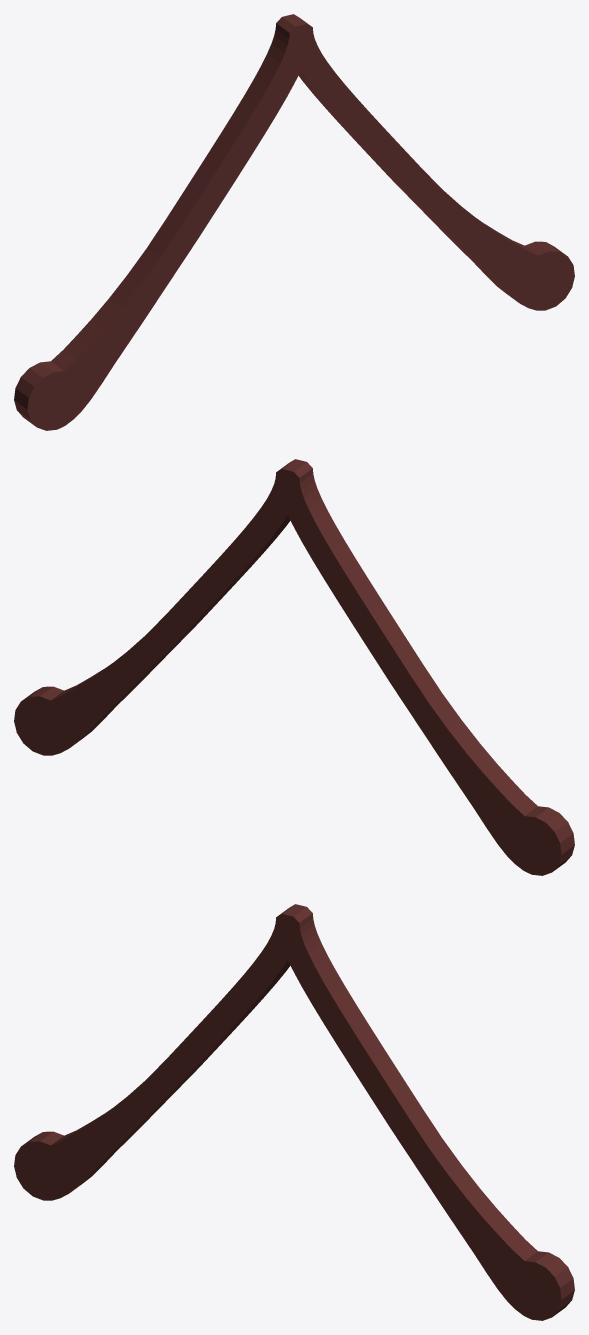
The model's file is RafeterBeam_Large.fbx.
3 renders of one model, top to bottom at view 1: azimuth 30°, elevation 25°; view 2: azimuth 150°, elevation 25°; view 3: azimuth 330°, elevation 25°, orthographic.
Visible parts, largest first — view 1: RafeterBeam_Large; view 2: RafeterBeam_Large; view 3: RafeterBeam_Large.
Boxes of the visible parts, x1,y1,x2,y2 form: RafeterBeam_Large: (14, 14, 574, 430); RafeterBeam_Large: (14, 459, 574, 875); RafeterBeam_Large: (14, 904, 574, 1320).
Bounding box in the file's own units: 11.75 × 0.5 × 7.07.
